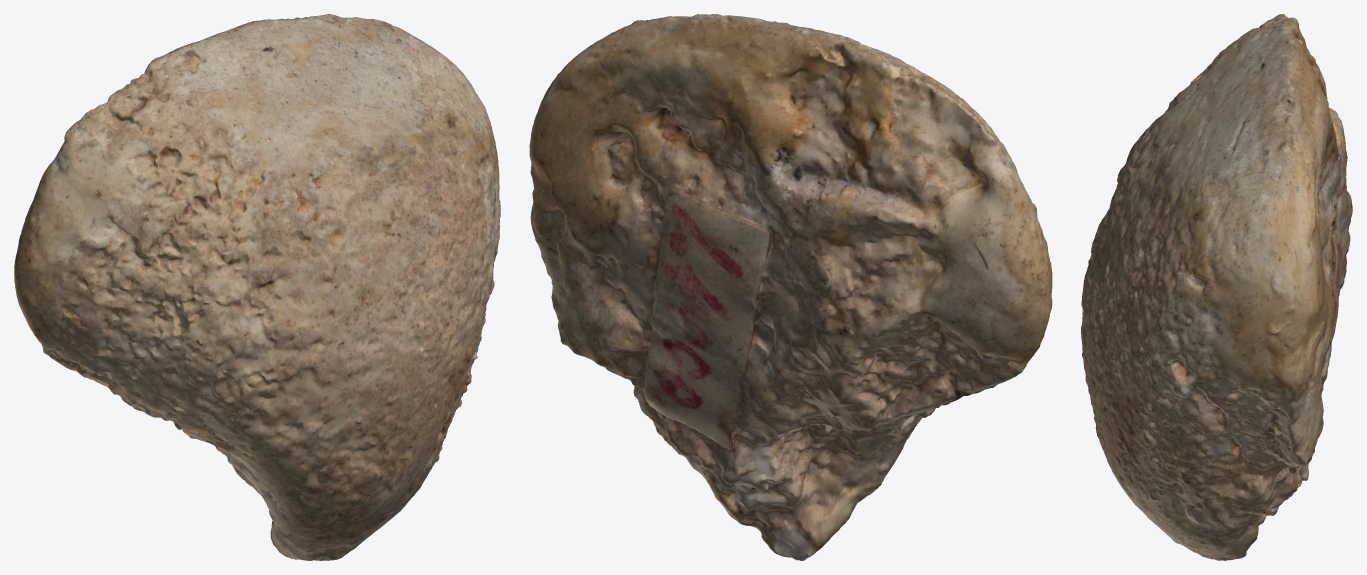
The model's file is EWS0016579.glb.
The picture shows the model from 3 angles, left to right: view 1: azimuth 30°, elevation 25°; view 2: azimuth 150°, elevation 25°; view 3: azimuth 270°, elevation 25°; orthographic projection. The views are drawn at different scales.
Parts seen in each view (by area): view 1: input; view 2: input; view 3: input.
Boxes of the visible parts, x1,y1,x2,y2 form: input: (14,14,500,560); input: (529,14,1052,560); input: (1081,14,1352,560).
Size of the model in its own units: 0.0222 by 0.0233 by 0.0116.
Materials: 1 (1 with a texture image).
